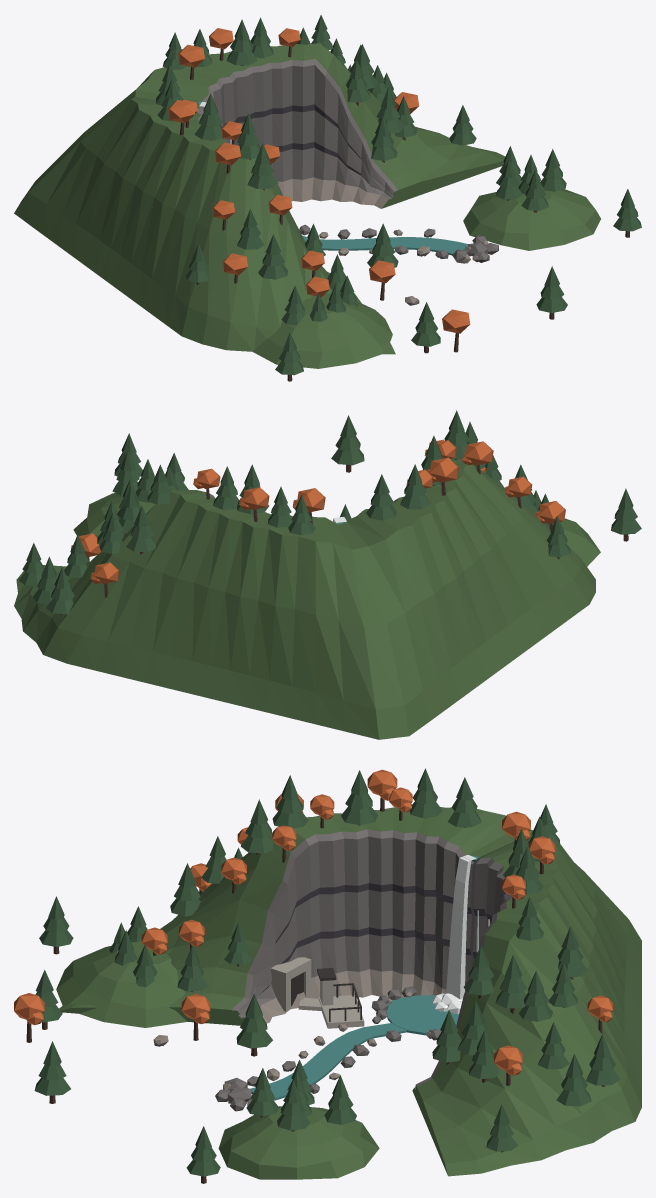
The model's file is kegon-falls.glb.
3 views of the same model, one above another, from view 1: azimuth 30°, elevation 25°; view 2: azimuth 150°, elevation 25°; view 3: azimuth 270°, elevation 25° (orthographic). The views are drawn at different scales.
Parts seen in each view (by area): view 1: kegon_forest, kegon_pine, kegon_rock, kegon_maple, kegon_scree, kegon_water, kegon_rockd, kegon_bark; view 2: kegon_forest, kegon_pine, kegon_maple, kegon_bark; view 3: kegon_forest, kegon_pine, kegon_rock, kegon_maple, kegon_water, kegon_scree, kegon_concrete, kegon_foam, kegon_rockd, kegon_bark, kegon_roof.
Boxes of the visible parts, left/top/right/bottom form: kegon_forest: left=14, top=43, right=600, bottom=368; kegon_pine: left=156, top=15, right=641, bottom=375; kegon_rock: left=197, top=59, right=498, bottom=303; kegon_maple: left=168, top=28, right=470, bottom=333; kegon_scree: left=277, top=177, right=488, bottom=305; kegon_water: left=198, top=101, right=468, bottom=255; kegon_rockd: left=224, top=104, right=376, bottom=188; kegon_bark: left=180, top=46, right=629, bottom=381; kegon_forest: left=14, top=459, right=600, bottom=739; kegon_pine: left=19, top=410, right=641, bottom=614; kegon_maple: left=71, top=439, right=565, bottom=583; kegon_bark: left=60, top=459, right=628, bottom=614; kegon_forest: left=56, top=807, right=641, bottom=1179; kegon_pine: left=34, top=768, right=620, bottom=1176; kegon_rock: left=154, top=829, right=512, bottom=1111; kegon_maple: left=14, top=769, right=612, bottom=1075; kegon_water: left=251, top=855, right=479, bottom=1100; kegon_scree: left=153, top=969, right=446, bottom=1105; kegon_concrete: left=270, top=957, right=364, bottom=1028; kegon_foam: left=432, top=855, right=489, bottom=1014; kegon_rockd: left=260, top=883, right=492, bottom=994; kegon_bark: left=26, top=797, right=605, bottom=1183; kegon_roof: left=291, top=968, right=361, bottom=1021.
Bounding box in the file's own units: 31.51 × 12.09 × 32.39.
